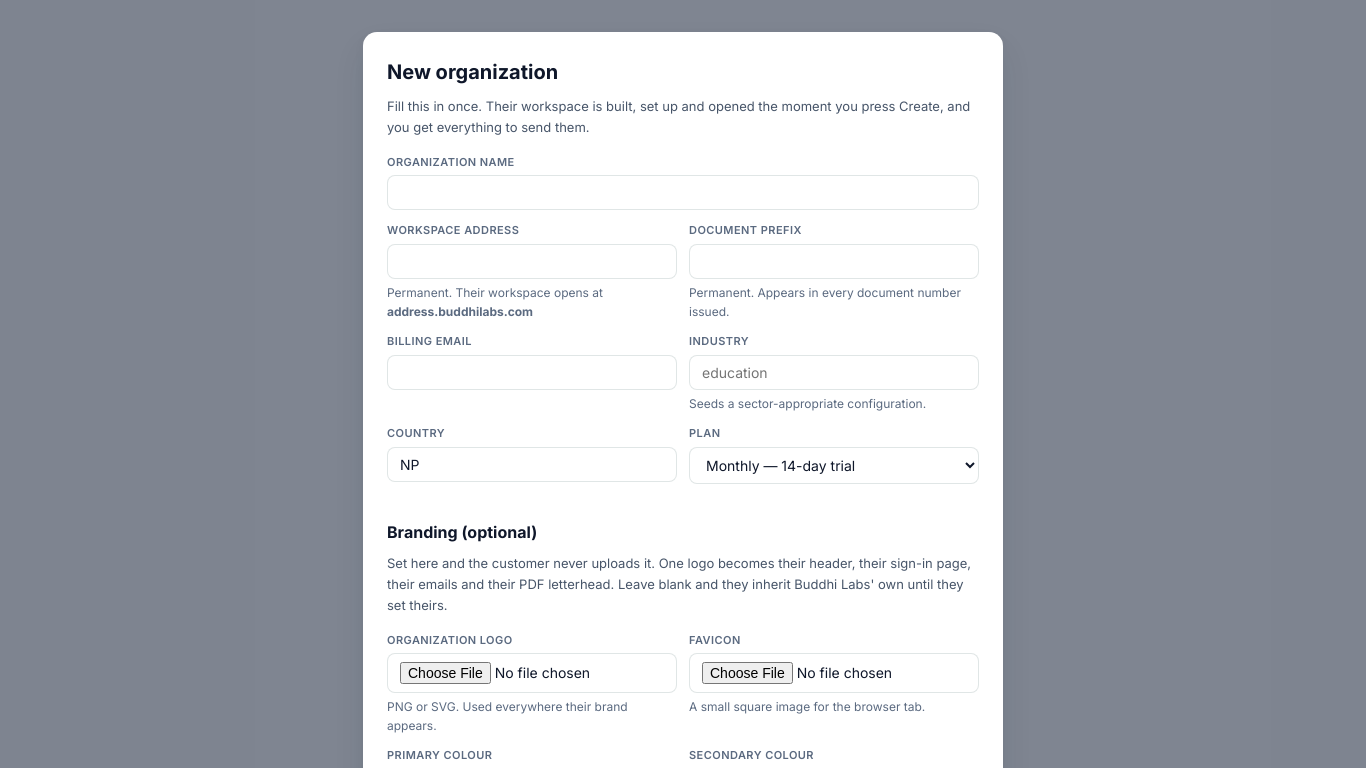
Test: the create-organization form › shows a field error back on the field it belongs to
The width and height of the screenshot is (1366, 768).
Type "ABC School" into the field labelled "Organization name" at (683, 193), box 387,175 -> 979,210
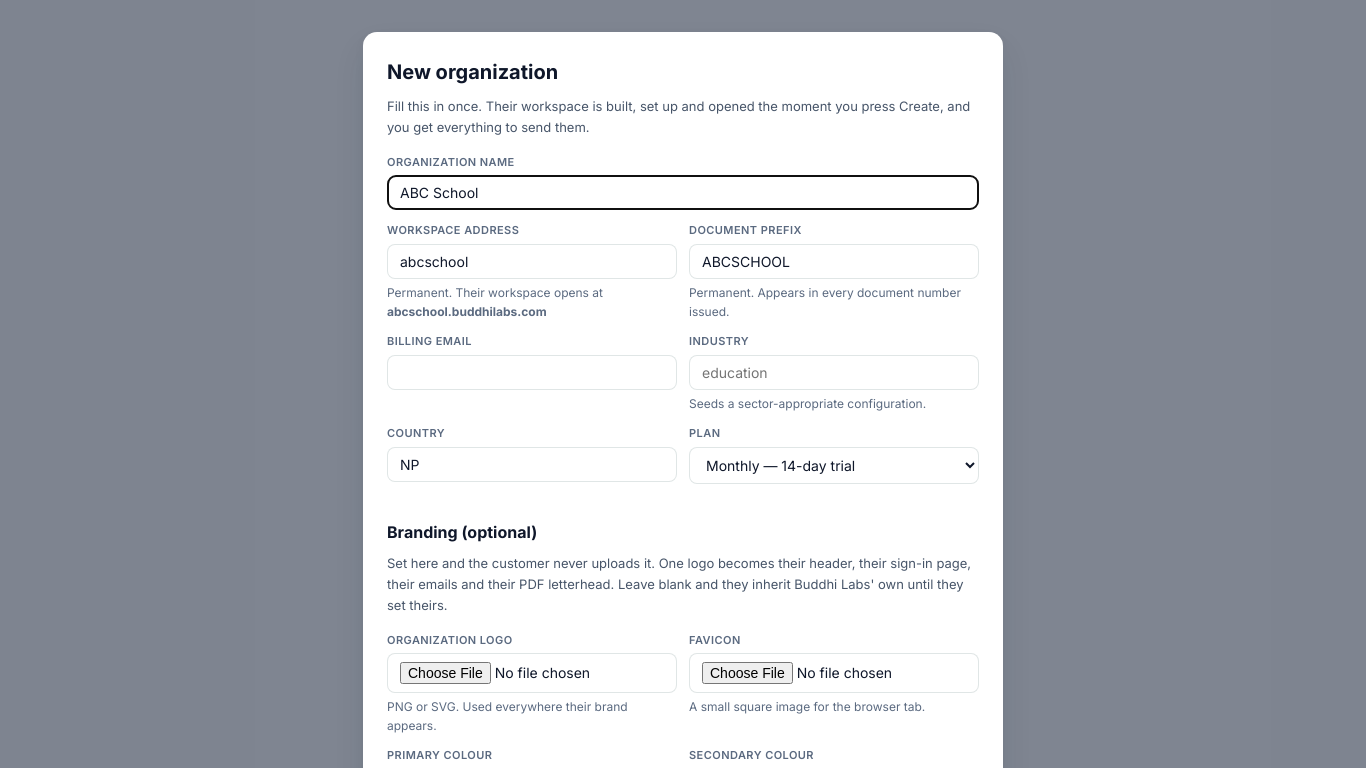
Type "a@abc.test" into the field labelled "Billing email" at (532, 372), box 387,355 -> 677,390
(page scrolled)
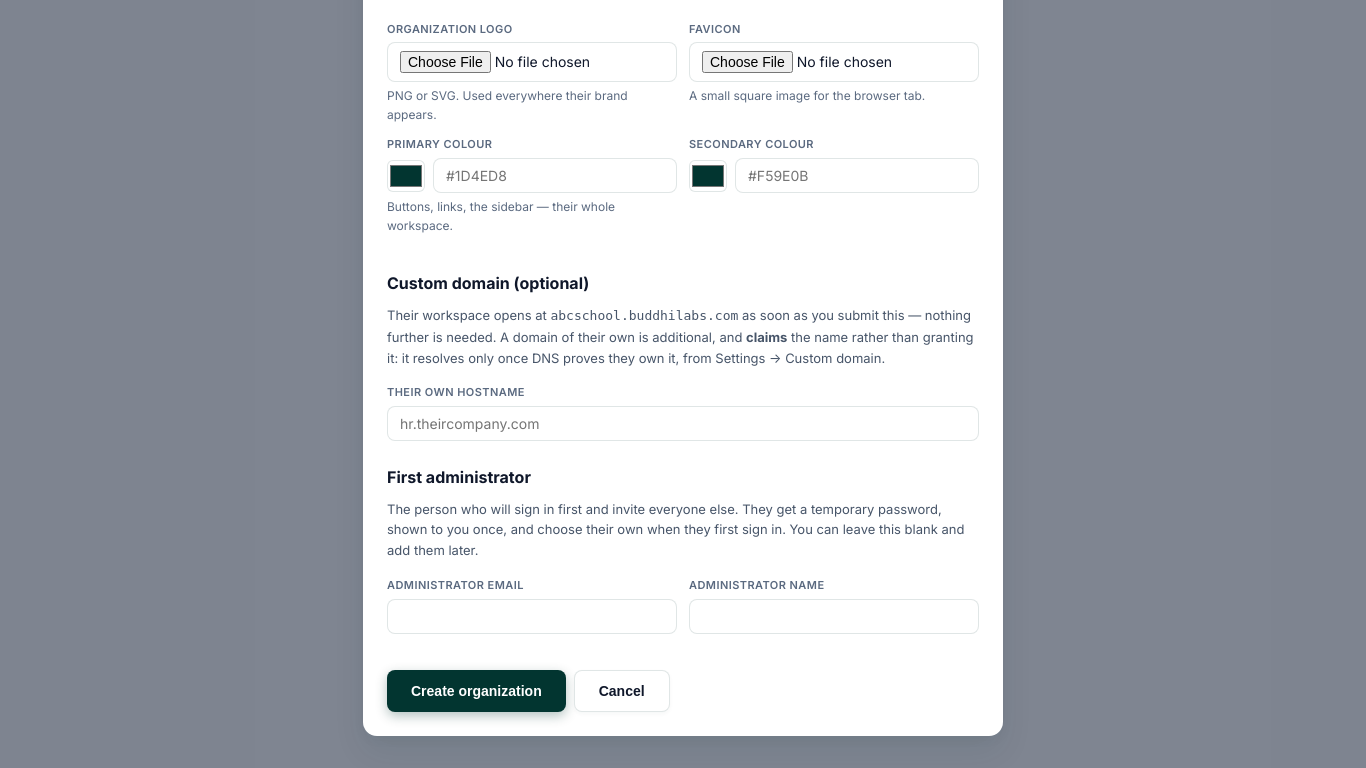
Click the button "Create organization" at (476, 691), box 387,670 -> 566,712
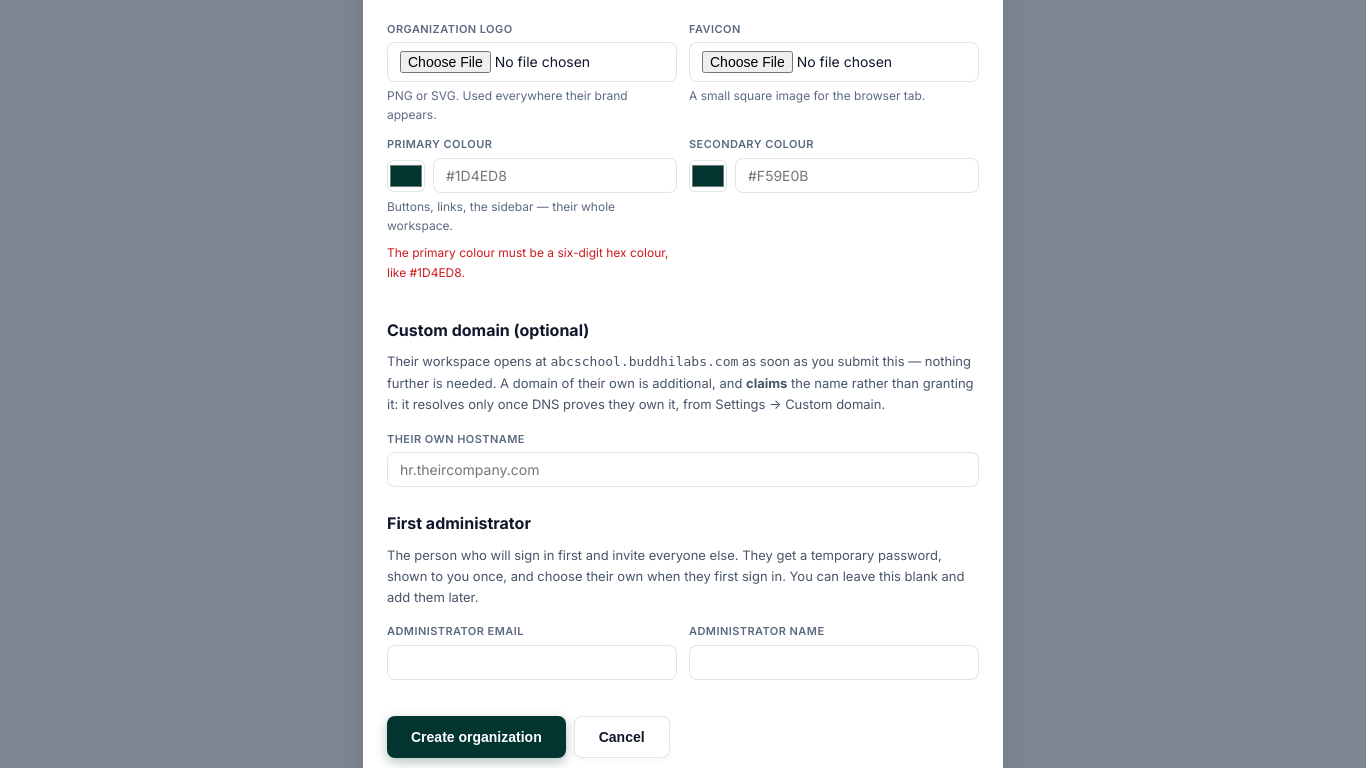
Expected: the text "six-digit hex colour" is shown, 387,246 -> 668,280
